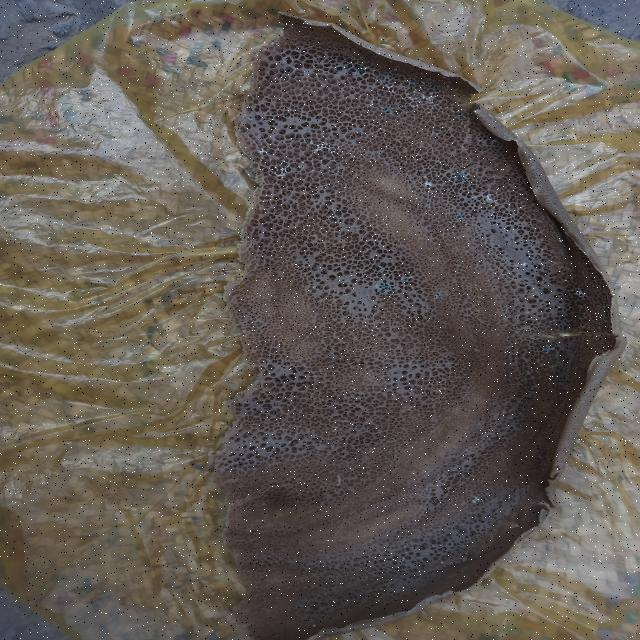injera_mold: (422, 93, 436, 104), (332, 64, 348, 73), (314, 144, 331, 152), (456, 172, 468, 182), (575, 289, 587, 299), (382, 106, 396, 114), (544, 343, 554, 354), (380, 74, 390, 84), (412, 93, 420, 103), (354, 67, 365, 74), (379, 283, 390, 290), (279, 164, 288, 172), (275, 172, 287, 178), (486, 194, 492, 205), (472, 496, 480, 504), (407, 77, 415, 84), (429, 84, 438, 90), (489, 139, 497, 145), (350, 55, 356, 63), (434, 292, 440, 300), (317, 55, 322, 64), (258, 150, 268, 154), (424, 181, 432, 186), (402, 277, 412, 281), (286, 68, 292, 74), (407, 92, 411, 101), (458, 213, 463, 220), (425, 202, 430, 209), (283, 57, 290, 62), (280, 159, 288, 163), (258, 157, 266, 161), (290, 24, 296, 29), (522, 262, 527, 268), (433, 131, 438, 137), (435, 112, 440, 118), (386, 85, 392, 90), (370, 98, 374, 105), (345, 95, 349, 102), (364, 54, 369, 59), (458, 114, 462, 120), (394, 67, 398, 73), (332, 149, 336, 155), (427, 105, 435, 108), (382, 216, 388, 220), (312, 624, 318, 628), (376, 598, 382, 602), (473, 112, 479, 116), (440, 76, 446, 80), (438, 544, 444, 548), (269, 167, 272, 175), (310, 142, 314, 148), (302, 69, 306, 75), (274, 157, 281, 160), (410, 106, 420, 108), (300, 160, 305, 164), (440, 86, 445, 90), (320, 76, 324, 81), (558, 238, 562, 242), (401, 557, 405, 561), (456, 110, 460, 114), (277, 147, 281, 151), (444, 106, 449, 109), (379, 588, 383, 591), (404, 546, 408, 549), (558, 306, 562, 309), (489, 114, 492, 118), (452, 108, 454, 114), (464, 552, 468, 555), (269, 83, 272, 87), (360, 113, 363, 116), (345, 184, 347, 188), (564, 280, 568, 282), (245, 146, 247, 150), (366, 584, 369, 586), (441, 561, 443, 564), (356, 132, 358, 134)
